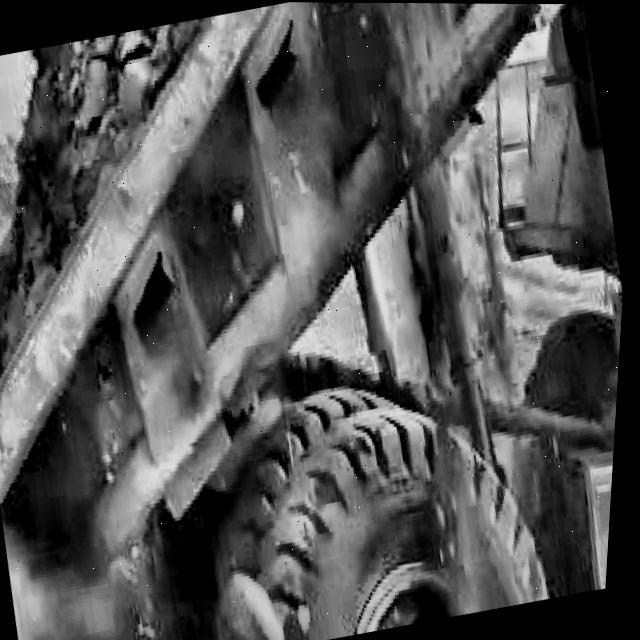dump_truck: (0, 2, 627, 640)
